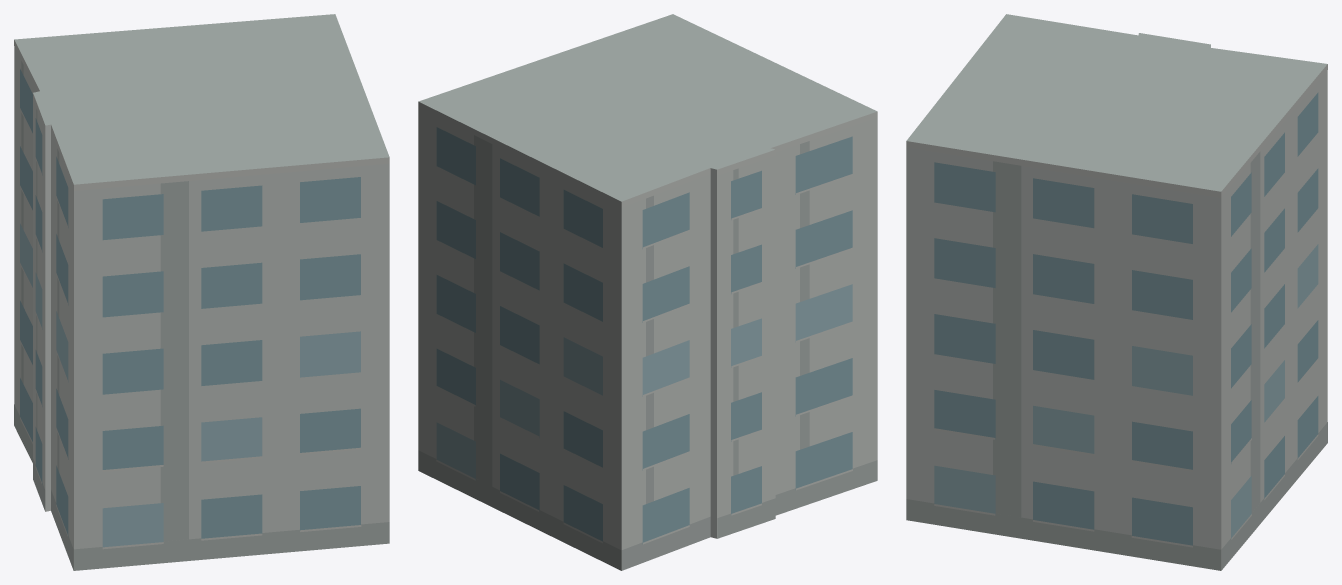
The model's file is survey-upis-33038805.glb.
3 views of the same model, side by side, from view 1: azimuth 30°, elevation 25°; view 2: azimuth 150°, elevation 25°; view 3: azimuth 270°, elevation 25° (orthographic). The views are drawn at different scales.
Visible parts, largest first — view 1: survey-upis-33038805.tmp; view 2: survey-upis-33038805.tmp; view 3: survey-upis-33038805.tmp.
Part boxes in pixels (left/top/right/bottom): survey-upis-33038805.tmp: left=14, top=14, right=389, bottom=570; survey-upis-33038805.tmp: left=418, top=14, right=877, bottom=570; survey-upis-33038805.tmp: left=906, top=14, right=1327, bottom=570.
Size of the model in its own units: 14.89 by 14.8 by 14.92.
